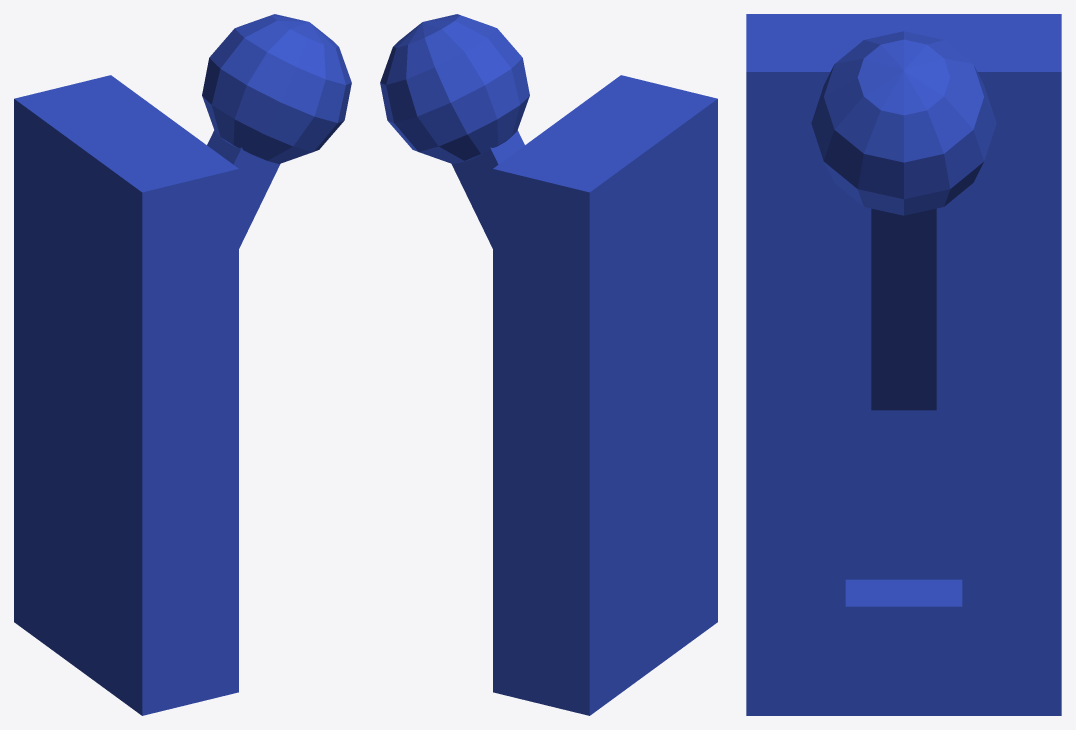
The model's file is lever.obj.
3 views of the same model, side by side, from view 1: azimuth 30°, elevation 25°; view 2: azimuth 150°, elevation 25°; view 3: azimuth 270°, elevation 25° (orthographic). The views are drawn at different scales.
Visible parts, largest first — view 1: Base, Stick; view 2: Base, Stick; view 3: Base, Stick.
Part boxes in pixels (x1=…): Base: x1=14, y1=75, x2=238, y2=715; Stick: x1=202, y1=14, x2=351, y2=248; Base: x1=493, y1=75, x2=717, y2=715; Stick: x1=380, y1=14, x2=529, y2=248; Base: x1=746, y1=14, x2=1061, y2=715; Stick: x1=811, y1=31, x2=996, y2=410.
Bounding box in the file's own units: 0.8604 × 1.87 × 0.7232.
